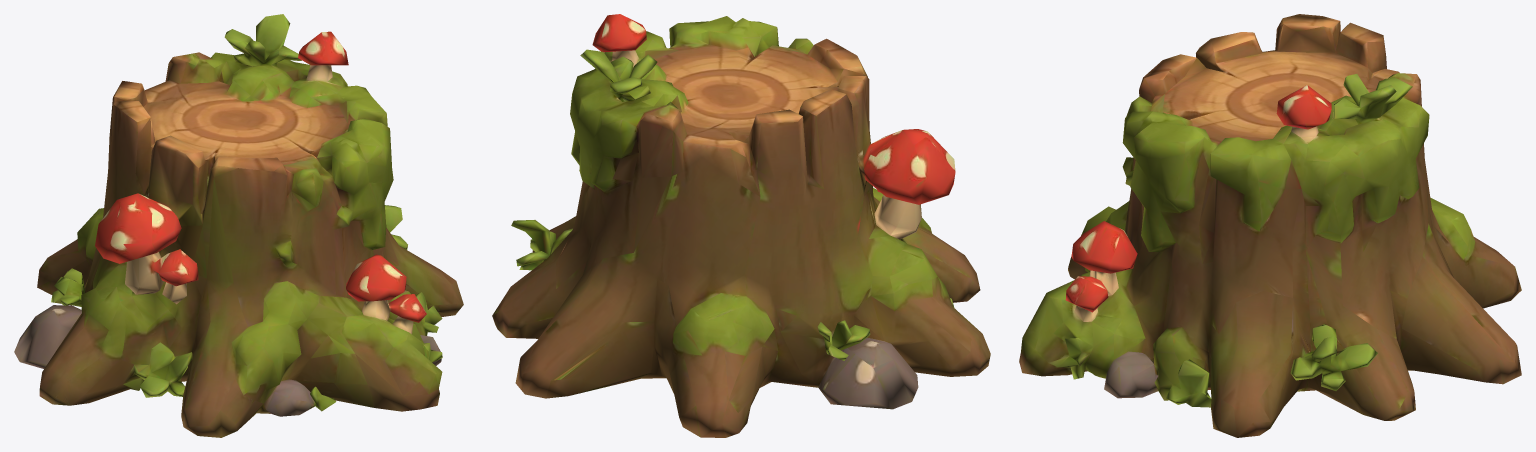
3 renders of one model, left to right at view 1: azimuth 30°, elevation 25°; view 2: azimuth 150°, elevation 25°; view 3: azimuth 270°, elevation 25°, orthographic. The views are drawn at different scales.
Visible parts, largest first — view 1: mushroom-stump; view 2: mushroom-stump; view 3: mushroom-stump.
Part boxes in pixels (x1,y1,x2,y2): mushroom-stump: (14, 14, 463, 437); mushroom-stump: (492, 14, 990, 437); mushroom-stump: (1019, 14, 1521, 437).
Bounding box in the file's own units: 1.27 × 0.8043 × 1.24.
1 material, 1 textured.
